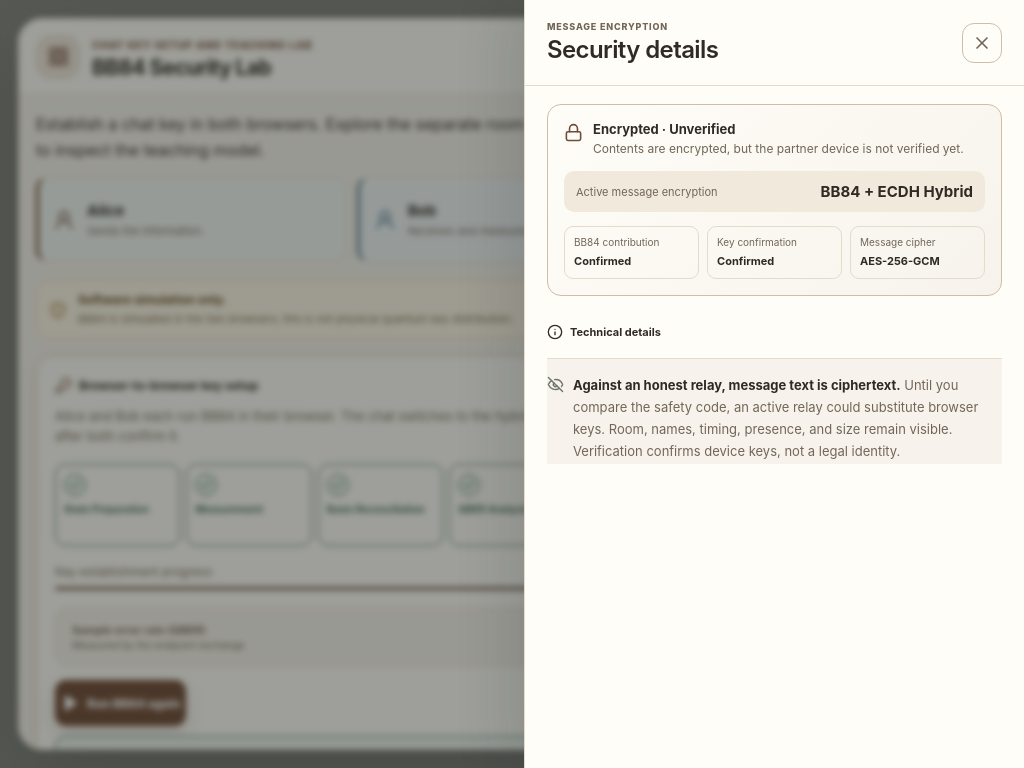
Test case: shared runtime key status in Security Details and BB84 Security Lab › shows confirmed hybrid activation in both surfaces and updates both on ECDH fallback
Later steps or results of the test are not shown.
Click the heading "Technical details": (604, 332) [547, 324, 661, 340]
(page scrolled)
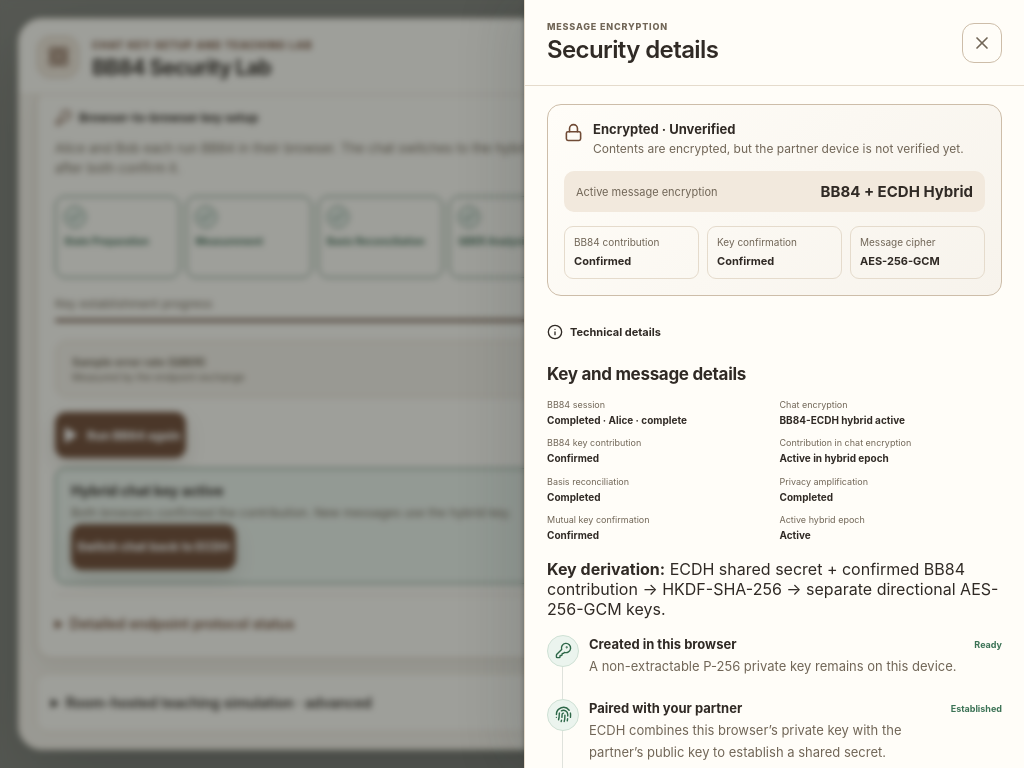
expect the text "Hybrid key active" is shown: met, box [864, 106, 969, 130]
expect the text "Hybrid chat key active" is shown: met, box [71, 482, 224, 499]
expect the text "ECDH shared secret + confirmed BB84 contribution → HKDF-SHA-256 → separate directional AES-256-GCM keys" is shown: met, box [547, 559, 998, 619]
